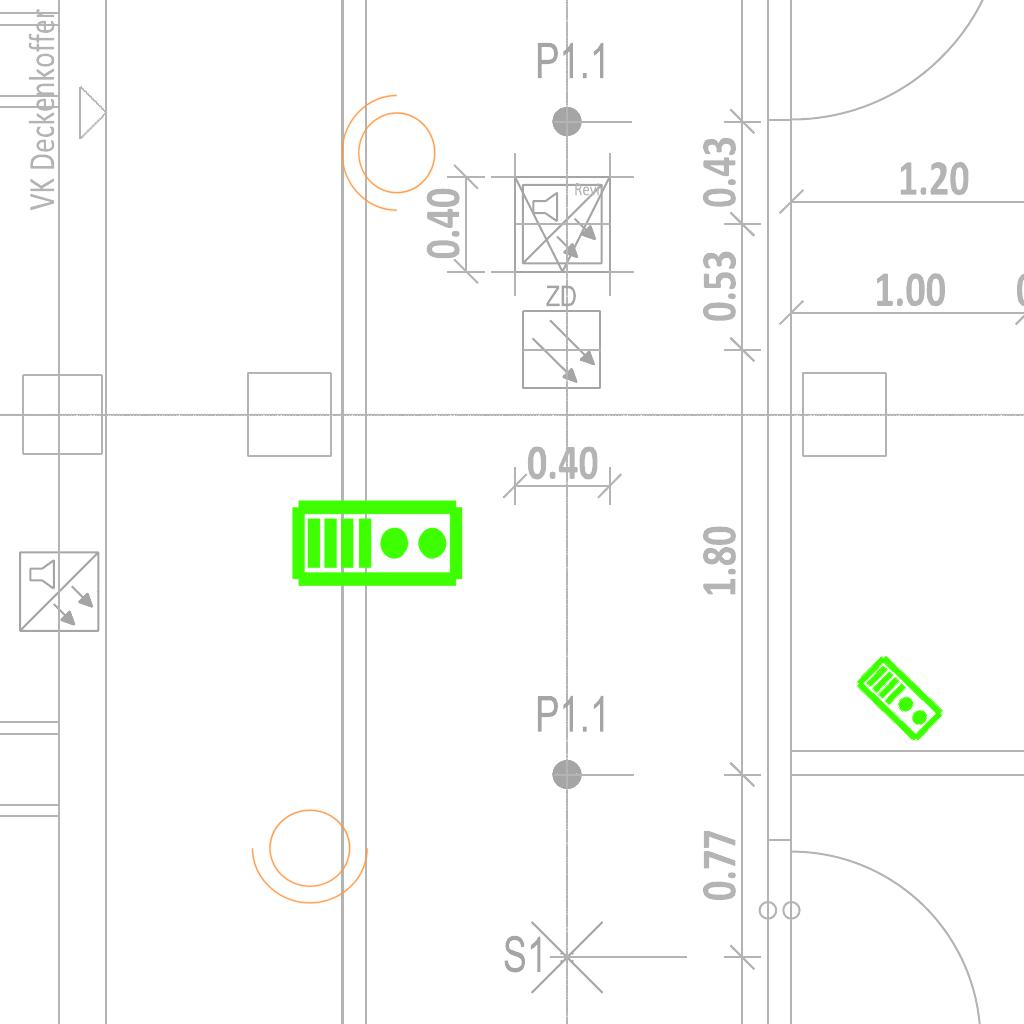Gegensprechanlage_mit_Video: (290, 494, 466, 589), (852, 650, 949, 746)
Scheinwerfer_fuer_Alarmbeleuchtung: (336, 90, 448, 222), (247, 797, 379, 909)
